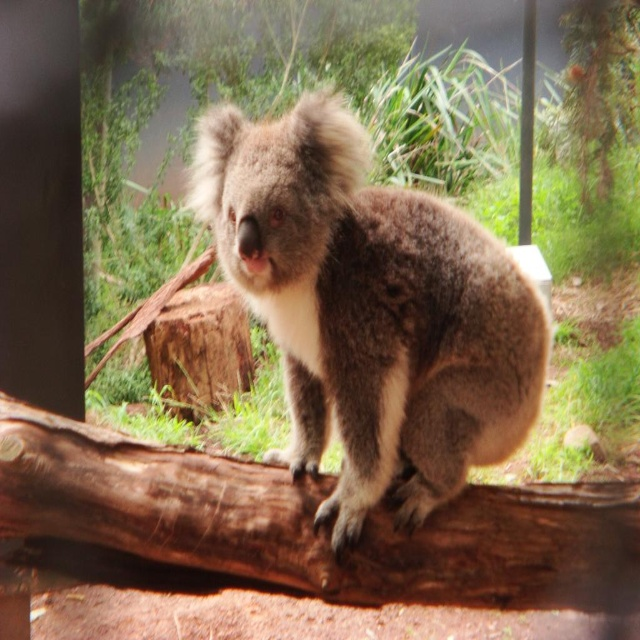Koala: (181, 81, 549, 559)
